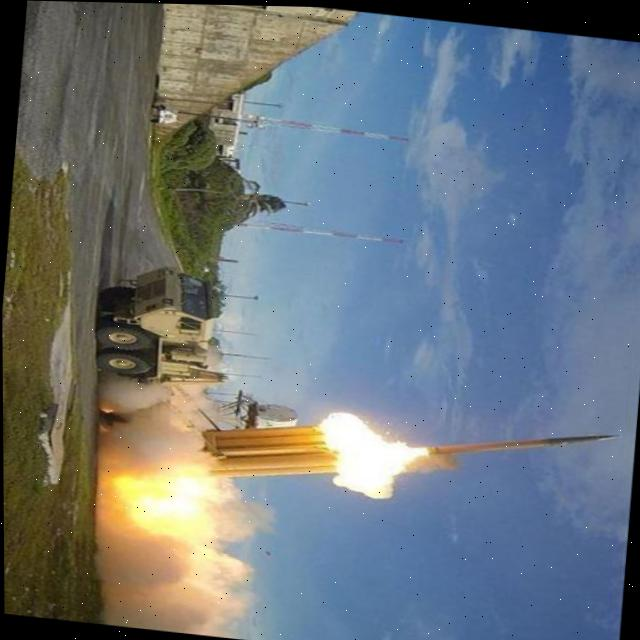missile: (419, 404, 621, 475)
